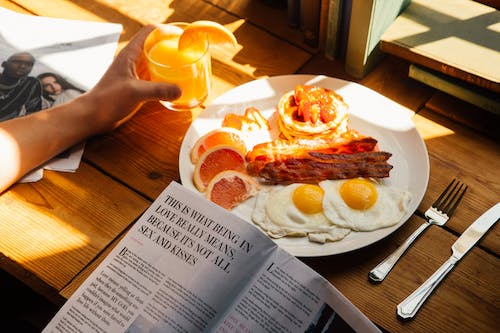knife: (395, 200, 500, 321)
